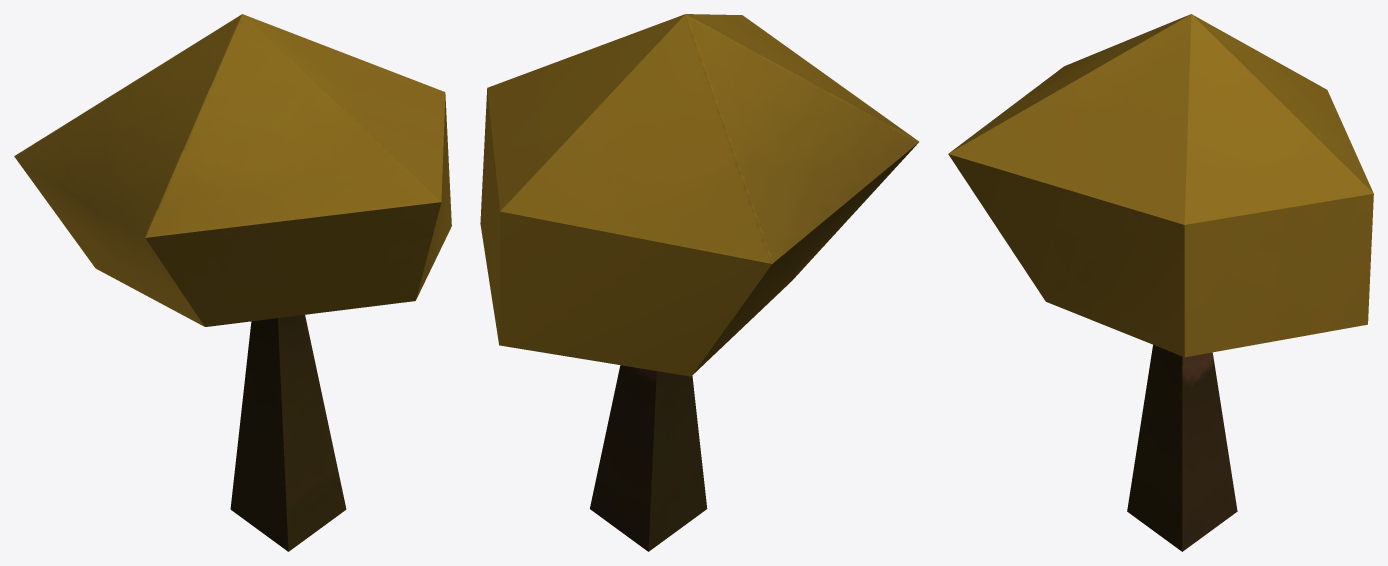
File: Leave_tree_C4_03.FBX
3 views of the same model, side by side, from view 1: azimuth 30°, elevation 25°; view 2: azimuth 150°, elevation 25°; view 3: azimuth 270°, elevation 25° (orthographic). The views are drawn at different scales.
Parts seen in each view (by area): view 1: Leave_tree_C4_03; view 2: Leave_tree_C4_03; view 3: Leave_tree_C4_03.
Boxes of the visible parts, bbox=[...] form: Leave_tree_C4_03: bbox=[14, 14, 451, 551]; Leave_tree_C4_03: bbox=[480, 14, 919, 551]; Leave_tree_C4_03: bbox=[948, 14, 1373, 551].
Bounding box in the file's own units: 24.17 × 25.28 × 32.22.
